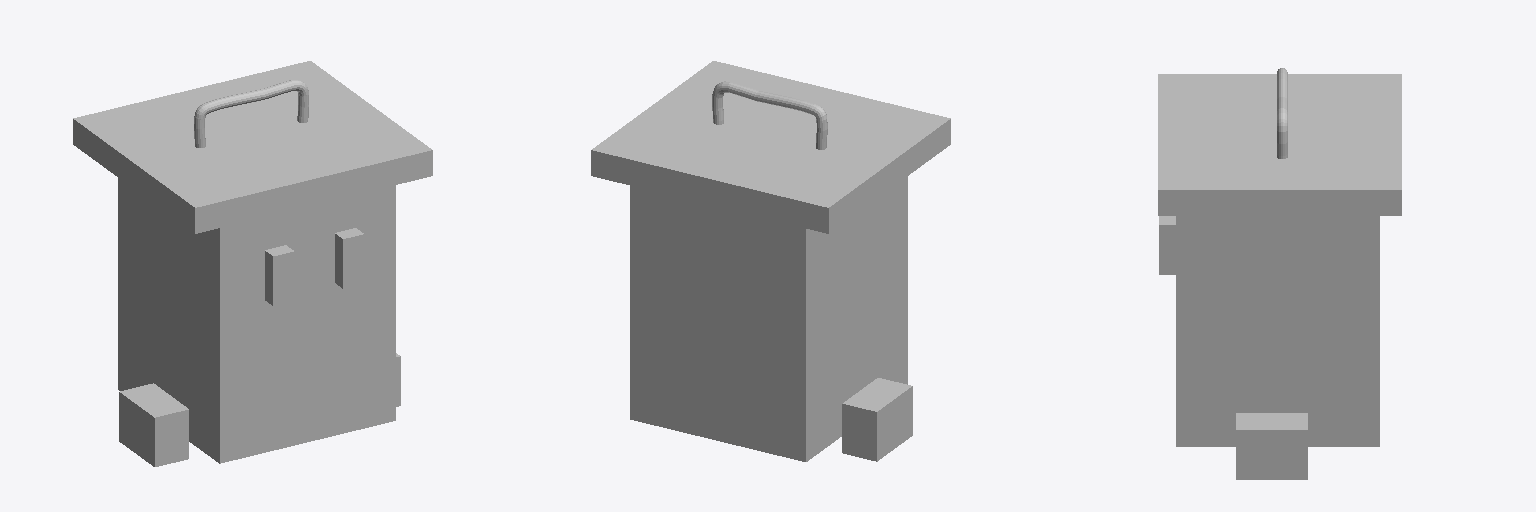
The model's file is lixo10.obj.
3 views of the same model, side by side, from view 1: azimuth 30°, elevation 25°; view 2: azimuth 150°, elevation 25°; view 3: azimuth 270°, elevation 25° (orthographic).
Parts seen in each view (by area): view 1: Mesh_1, Mesh_2, Mesh_0, Mesh_3, Mesh_6, Mesh_5; view 2: Mesh_1, Mesh_2, Mesh_0, Mesh_3; view 3: Mesh_1, Mesh_2, Mesh_4, Mesh_5, Mesh_3.
Boxes of the visible parts, x1=… form: Mesh_1: x1=118, y1=178, x2=395, y2=463; Mesh_2: x1=73, y1=61, x2=432, y2=233; Mesh_0: x1=119, y1=383, x2=188, y2=466; Mesh_3: x1=194, y1=80, x2=308, y2=147; Mesh_6: x1=265, y1=245, x2=294, y2=305; Mesh_5: x1=335, y1=228, x2=364, y2=288; Mesh_1: x1=630, y1=176, x2=907, y2=461; Mesh_2: x1=591, y1=61, x2=950, y2=233; Mesh_0: x1=842, y1=378, x2=912, y2=461; Mesh_3: x1=712, y1=81, x2=827, y2=149; Mesh_1: x1=1176, y1=216, x2=1379, y2=446; Mesh_2: x1=1158, y1=74, x2=1401, y2=215; Mesh_4: x1=1236, y1=413, x2=1307, y2=479; Mesh_5: x1=1159, y1=216, x2=1175, y2=274; Mesh_3: x1=1277, y1=68, x2=1287, y2=158.
Bounding box in the file's own units: 0.254 × 0.3269 × 0.2187.